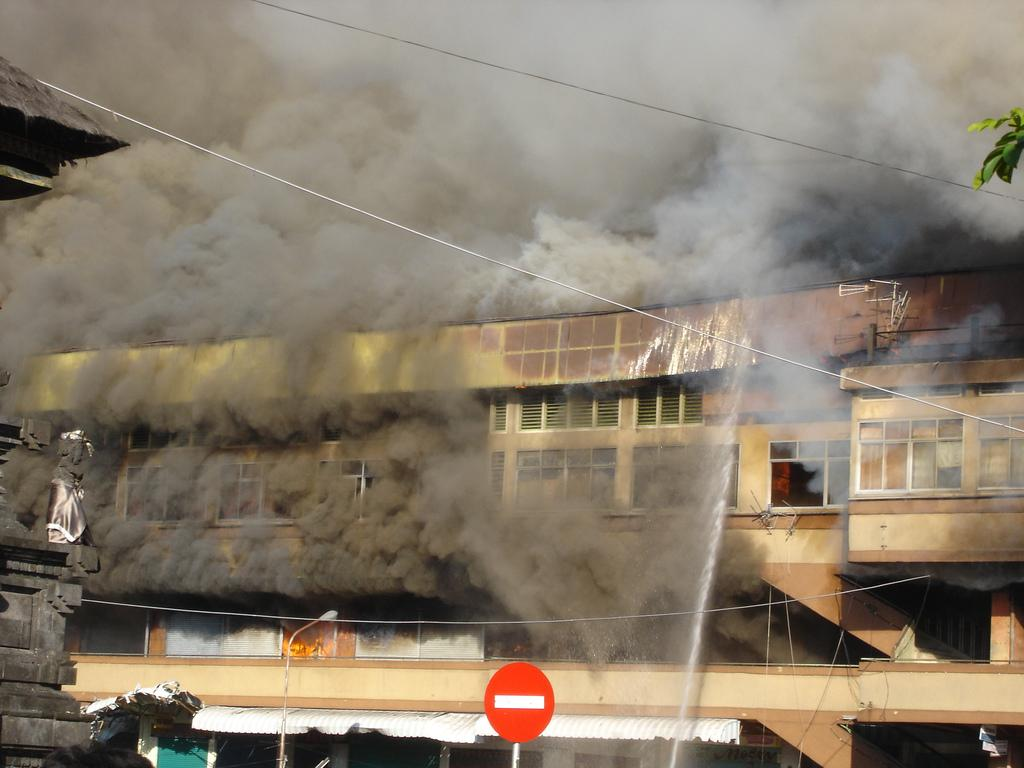smoke: (0, 112, 716, 617), (0, 4, 1024, 305), (304, 2, 1024, 182)
